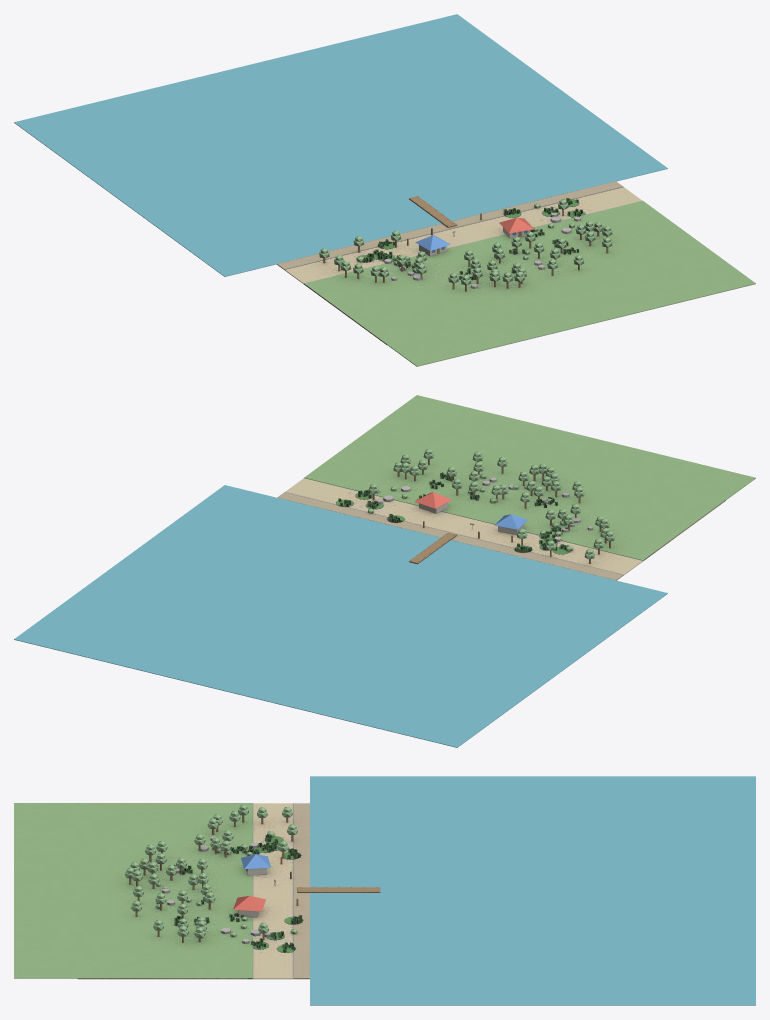
Rendered from shore.glb.
The picture shows the model from 3 angles, top to bottom: view 1: azimuth 30°, elevation 25°; view 2: azimuth 150°, elevation 25°; view 3: azimuth 270°, elevation 25°; orthographic projection. The views are drawn at different scales.
Parts seen in each view (by area): view 1: 統合 海, 統合 浜の草地, 統合 砂, 統合 葉.001, 統合 湿った砂, 統合 丈の高い草, 統合 木; view 2: 統合 海, 統合 浜の草地, 統合 砂, 統合 葉.001, 統合 湿った砂, 統合 丈の高い草, 統合 木; view 3: 統合 海, 統合 浜の草地, 統合 砂, 統合 葉.001, 統合 湿った砂, 統合 丈の高い草, 統合 木, 統合 石, 統合 赤い屋根.
Part boxes in pixels (left/top/right/bottom): 統合 海: left=14, top=14, right=667, bottom=276; 統合 浜の草地: left=304, top=201, right=755, bottom=366; 統合 砂: left=277, top=187, right=642, bottom=344; 統合 葉.001: left=319, top=199, right=612, bottom=285; 統合 湿った砂: left=277, top=181, right=623, bottom=269; 統合 丈の高い草: left=356, top=198, right=585, bottom=279; 統合 木: left=323, top=196, right=608, bottom=291; 統合 海: left=14, top=485, right=667, bottom=747; 統合 浜の草地: left=304, top=395, right=755, bottom=560; 統合 砂: left=285, top=478, right=725, bottom=580; 統合 葉.001: left=368, top=449, right=615, bottom=559; 統合 湿った砂: left=277, top=492, right=623, bottom=580; 統合 丈の高い草: left=336, top=472, right=569, bottom=554; 統合 木: left=372, top=459, right=610, bottom=564; 統合 海: left=310, top=776, right=755, bottom=1005; 統合 浜の草地: left=14, top=803, right=252, bottom=978; 統合 砂: left=77, top=803, right=309, bottom=979; 統合 葉.001: left=125, top=804, right=297, bottom=937; 統合 湿った砂: left=293, top=803, right=309, bottom=978; 統合 丈の高い草: left=174, top=834, right=302, bottom=952; 統合 木: left=129, top=815, right=380, bottom=942; 統合 石: left=156, top=836, right=270, bottom=943; 統合 赤い屋根: left=233, top=895, right=265, bottom=911.
Size of the model in its own units: 170 by 8.06 by 233.
12 materials, 10 textured.
